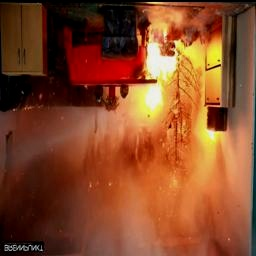fire: (136, 33, 214, 141)
